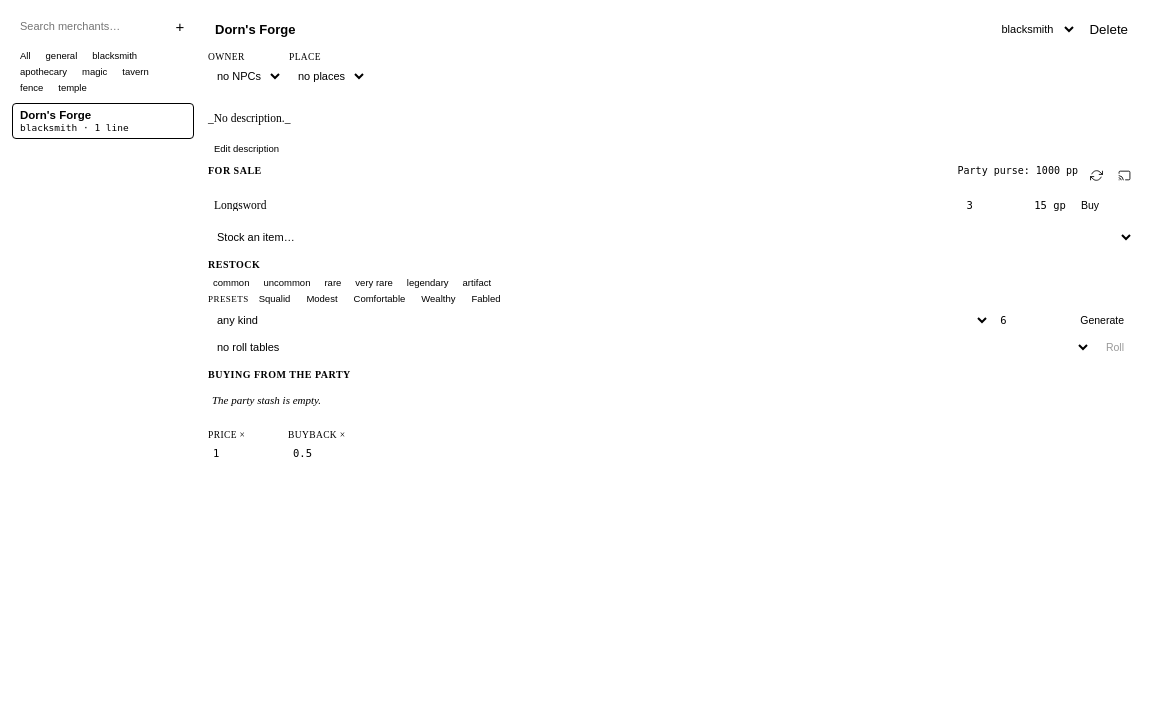
Merchants - reading a shelf item › keeps the card shut until the name is clicked
The width and height of the screenshot is (1152, 720).
Expected: the text "never drew it" is not shown
Click the button "Longsword".
click(240, 205)  # box top-left (214, 199), bottom-right (932, 211)
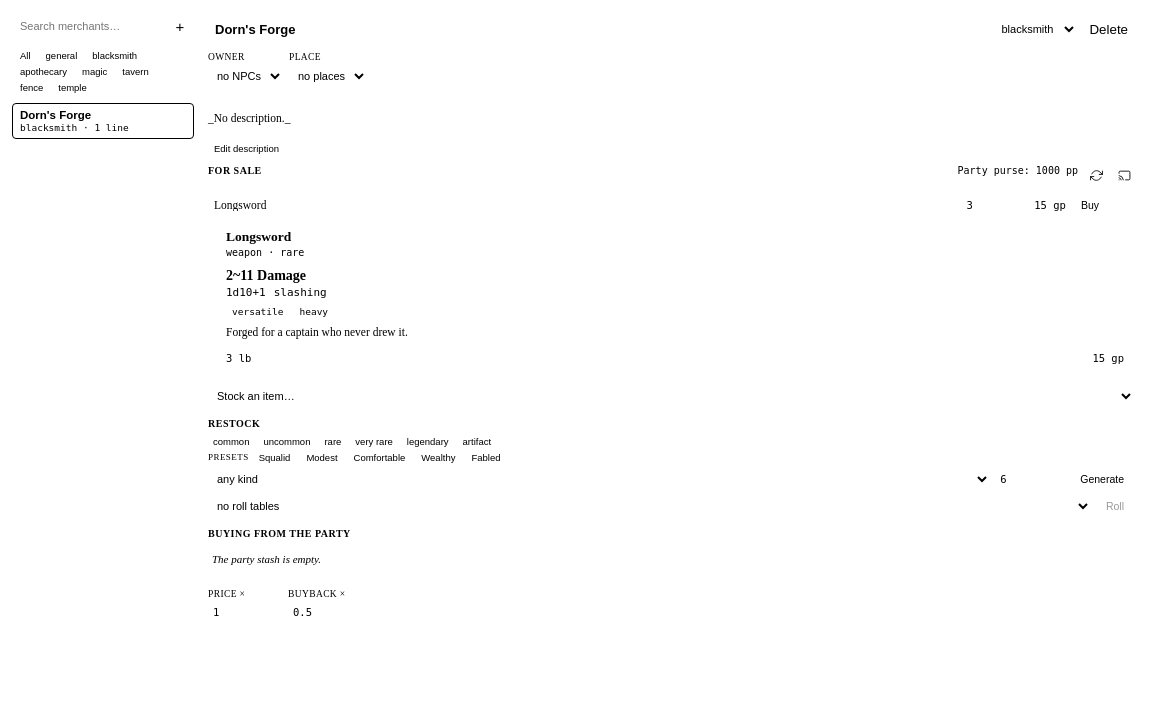
Now the text "Forged for a captain who never drew it." is shown, box top-left (226, 326), bottom-right (408, 338)
